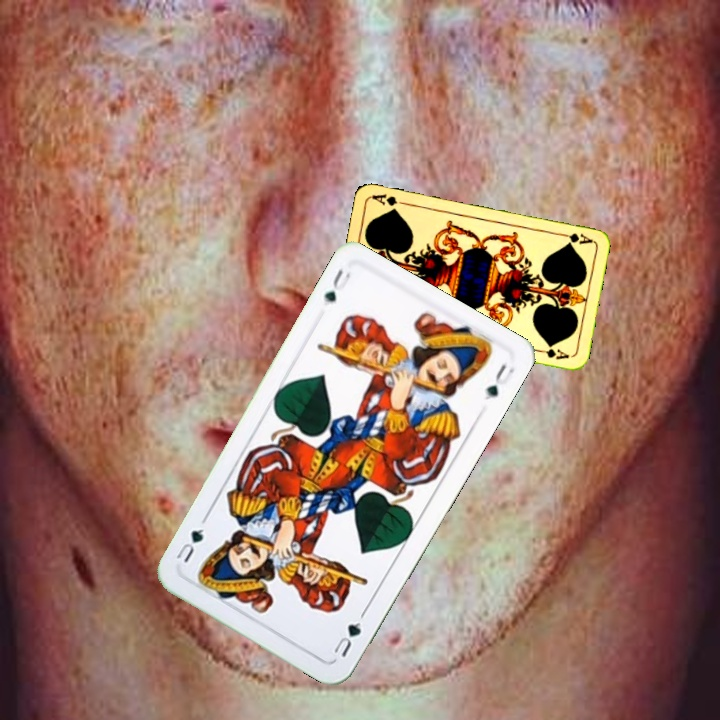GA: (554, 229, 595, 247)
GU: (328, 608, 368, 660), (320, 263, 353, 305)
